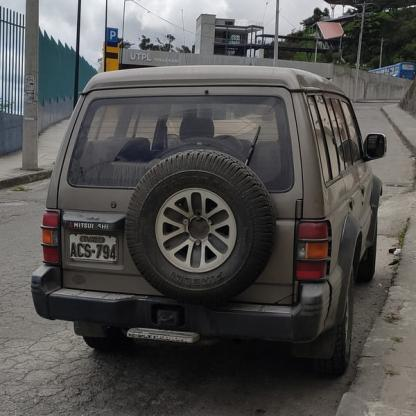Placa: (65, 233, 118, 267)
